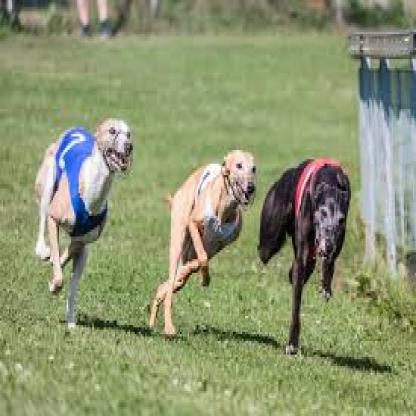dog: (136, 130, 274, 338), (30, 92, 144, 326), (261, 154, 362, 362)
